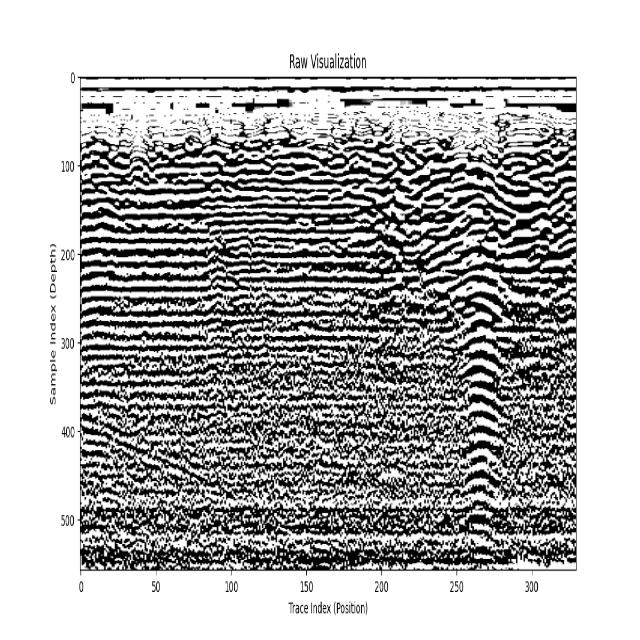anomaly: (463, 163, 499, 571)
